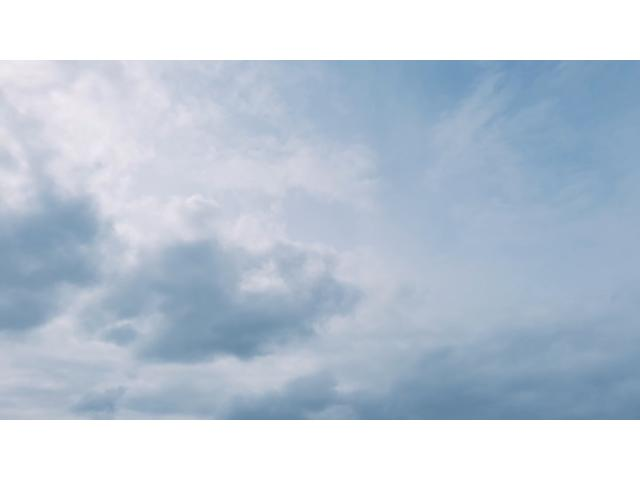Anti-Drone: (279, 274, 289, 284)
